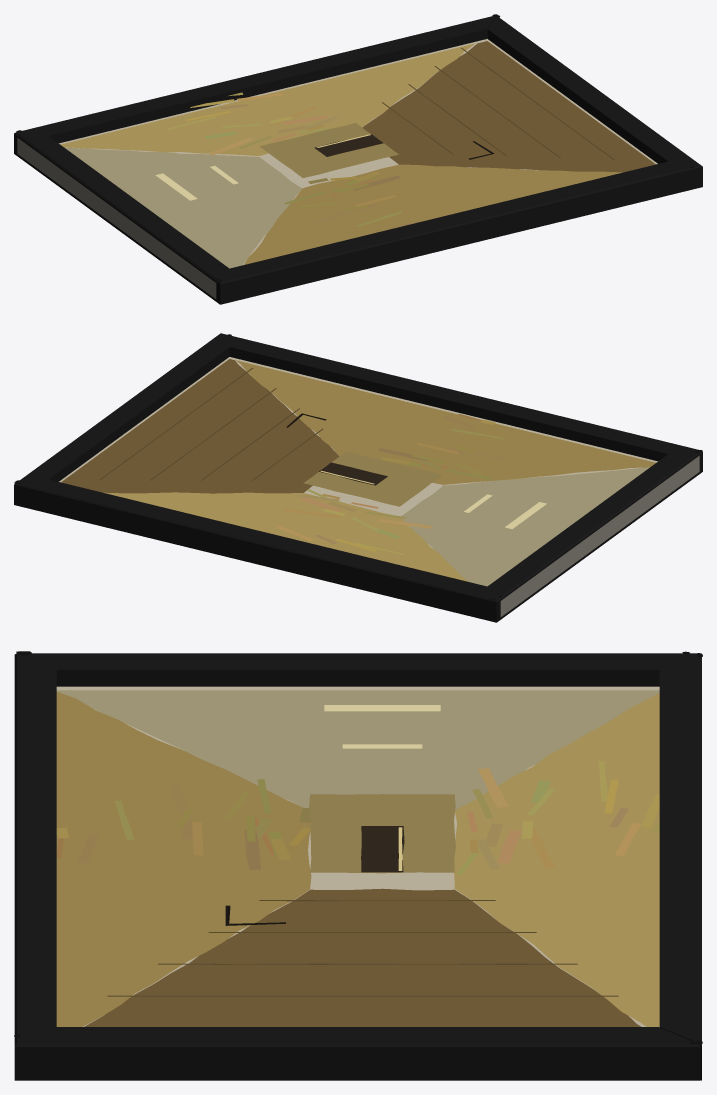
Rendered from painting_floor@3.glb.
3 renders of one model, top to bottom at view 1: azimuth 30°, elevation 25°; view 2: azimuth 150°, elevation 25°; view 3: azimuth 270°, elevation 25°, orthographic. The views are drawn at different scales.
Parts seen in each view (by area): view 1: bild; view 2: bild; view 3: bild.
Part boxes in pixels (left/top/right/bottom): bild: left=14, top=14, right=702, bottom=304; bild: left=14, top=333, right=702, bottom=622; bild: left=14, top=651, right=702, bottom=1080.
Bounding box in the file's own units: 0.7722 × 0.034 × 0.5713.
